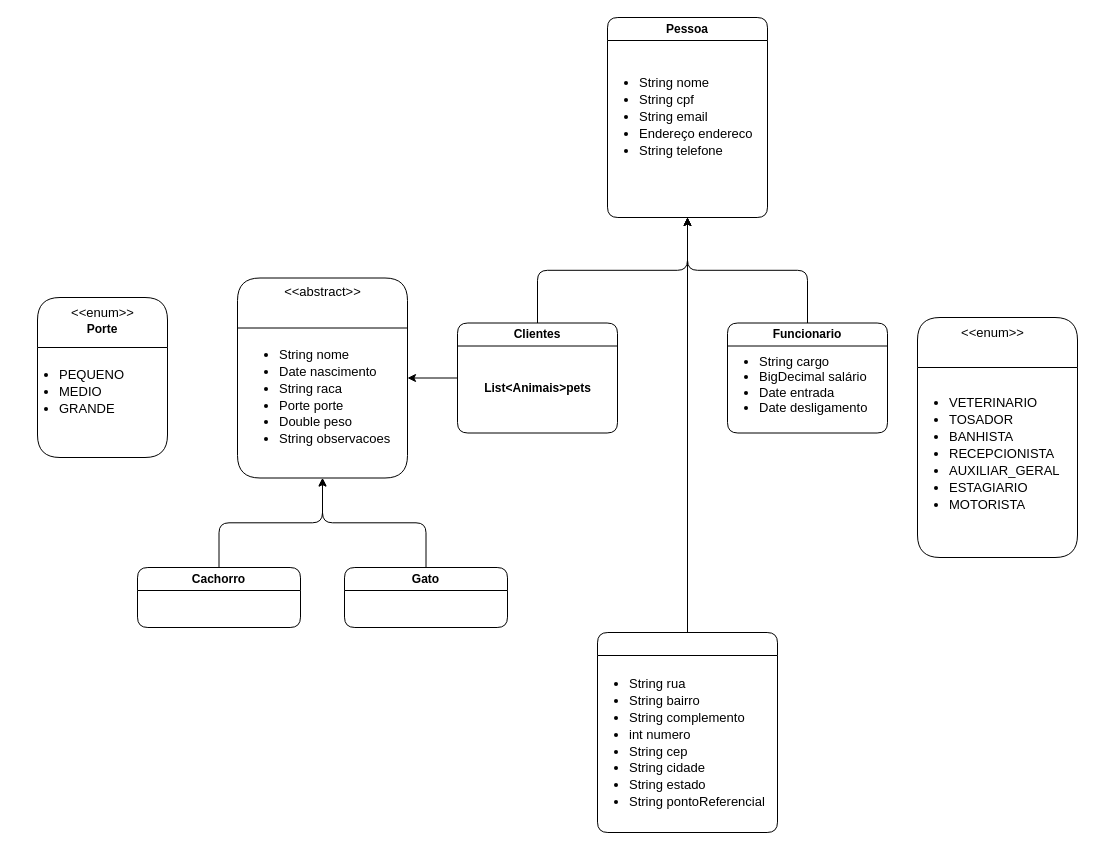
Some shapes in this 1095 by 850 pixel diagram are drawn without their labels. The shapes that lost their labels are listed below. From the top down, each one's box as (x1, y1, x2, y2) in pixels, then its label:
(236, 277, 408, 478): Animais
(916, 316, 1078, 558): Cargo
(596, 632, 778, 832): Endereco
